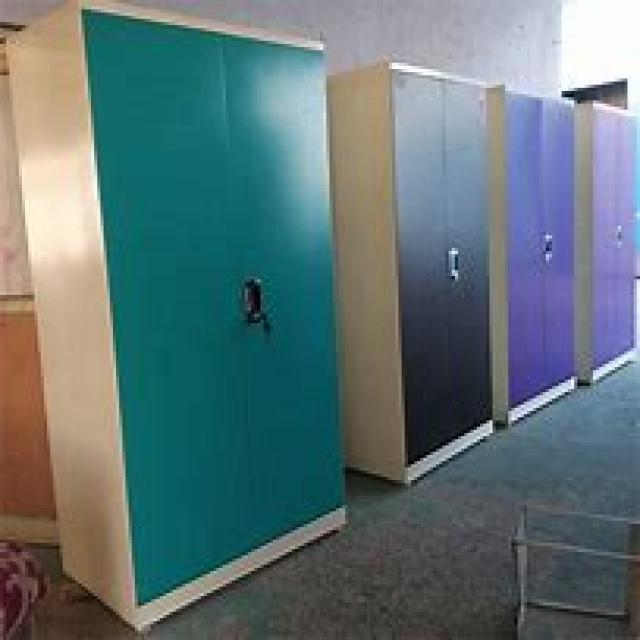dolap: (3, 0, 348, 631), (323, 59, 493, 483)
